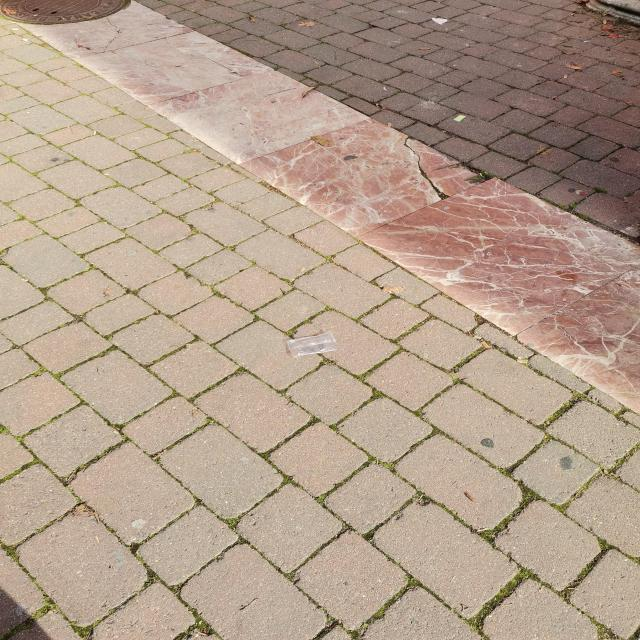litter: (287, 331, 341, 358)
